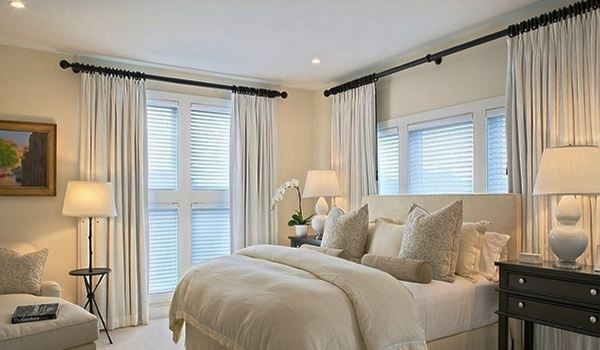床: (166, 247, 506, 350)
枕头: (327, 205, 505, 276)
灯: (534, 148, 595, 260), (59, 182, 115, 286), (303, 168, 342, 239), (10, 3, 29, 13), (310, 58, 323, 69)
